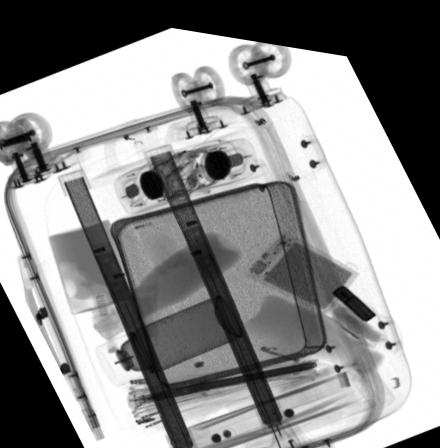Lighter: (329, 272, 378, 309)
Powerbank: (245, 221, 359, 303)
Sprayer: (95, 287, 243, 382)
